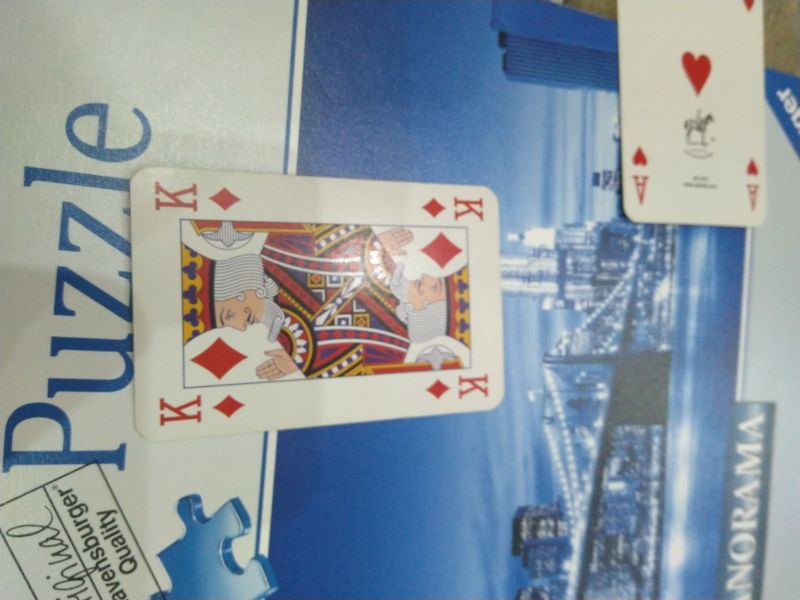Ah: (626, 138, 655, 209)
Kd: (149, 175, 243, 216), (155, 388, 244, 428), (420, 372, 493, 403), (420, 193, 491, 224)
